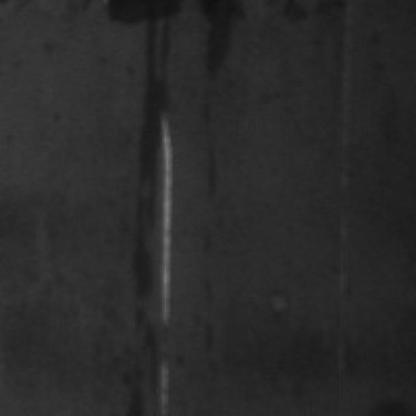inclusion: (195, 0, 235, 83)
scratches: (146, 112, 178, 414)
